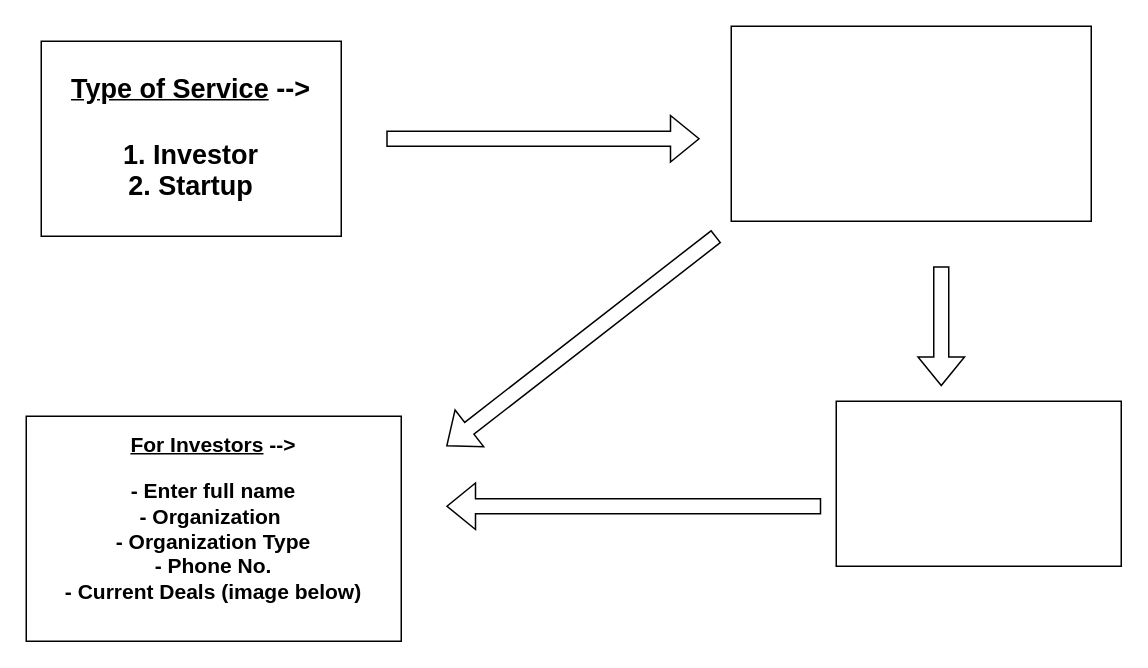
Some shapes in this 1148 by 668 pixel diagram are drawn without their labels. Each missing label, with the centre of its shape:
How do you want to register --> 1. Google 2. Outlook 3. Custom: (910,123)
If Custom --> - Enter Email - Create Password - Enter OTP: (978,483)
